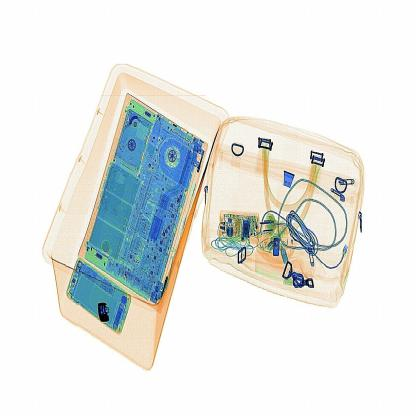pliers: (97, 300, 111, 326)
